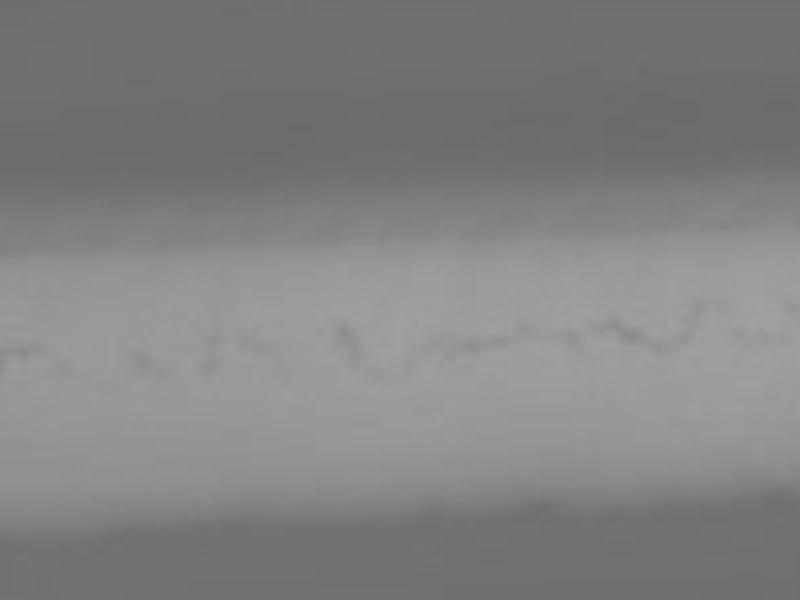defect: (332, 321, 364, 372), (444, 335, 508, 356), (596, 310, 636, 341), (675, 301, 707, 333), (760, 322, 794, 351), (636, 327, 668, 355), (2, 337, 48, 355), (194, 356, 222, 380), (729, 324, 753, 352), (560, 327, 586, 352), (398, 353, 422, 378), (130, 349, 154, 372), (50, 357, 74, 380), (520, 317, 540, 343), (201, 330, 223, 349)
